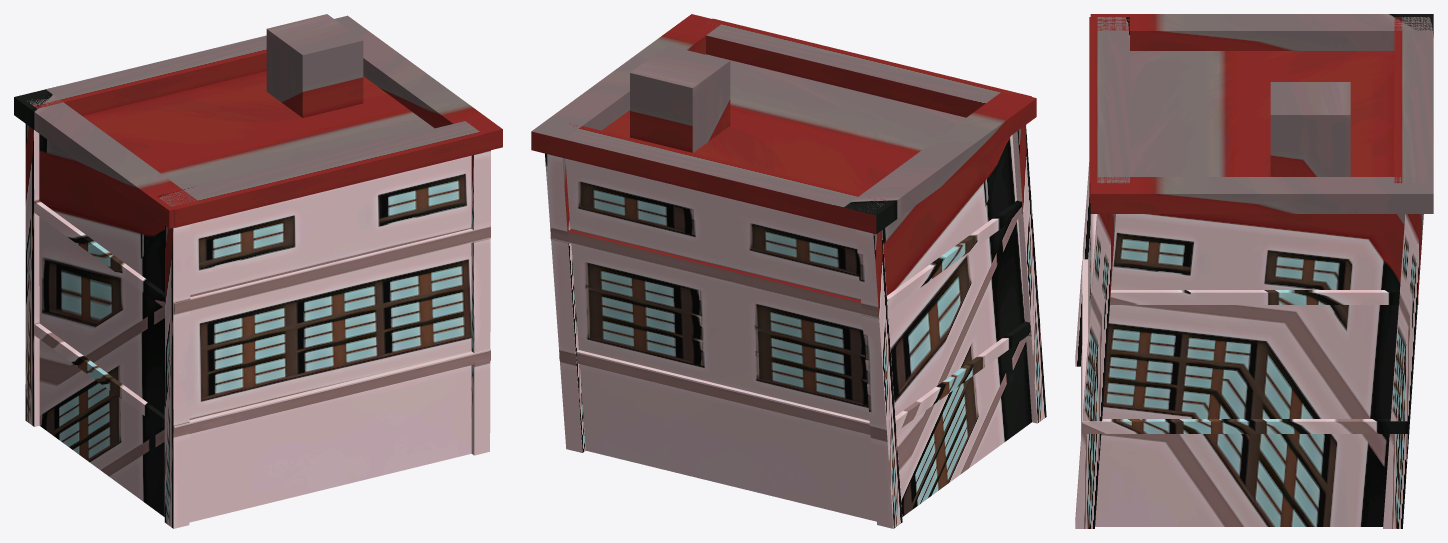
The model's file is House4.glb.
The picture shows the model from 3 angles, left to right: view 1: azimuth 30°, elevation 25°; view 2: azimuth 150°, elevation 25°; view 3: azimuth 270°, elevation 25°; orthographic projection. The views are drawn at different scales.
Parts seen in each view (by area): view 1: House4; view 2: House4; view 3: House4.
Boxes of the visible parts, bbox=[...] form: House4: bbox=[14, 14, 502, 528]; House4: bbox=[531, 14, 1046, 528]; House4: bbox=[1075, 14, 1433, 528].
Bounding box in the file's own units: 77.3 × 78.17 × 64.55.
1 material, 1 textured.
